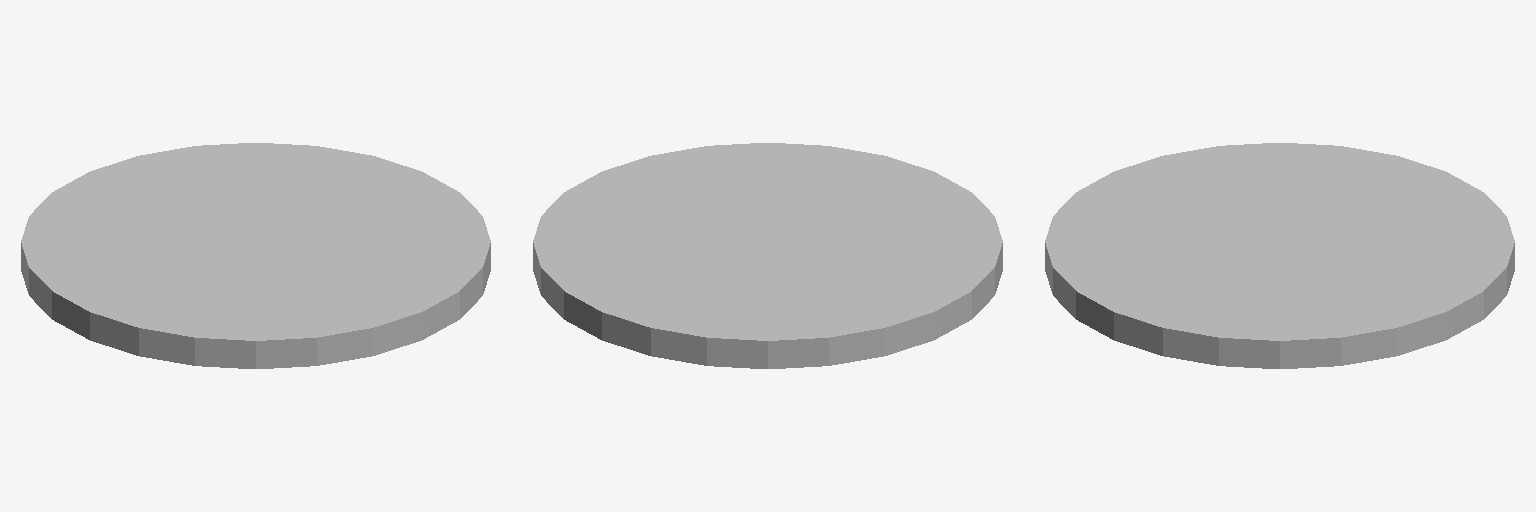
The model's file is Joystick-Right-Cover.obj.
3 renders of one model, left to right at view 1: azimuth 30°, elevation 25°; view 2: azimuth 150°, elevation 25°; view 3: azimuth 270°, elevation 25°, orthographic.
Parts seen in each view (by area): view 1: Joystick-Right-Cover; view 2: Joystick-Right-Cover; view 3: Joystick-Right-Cover.
Boxes of the visible parts, <box> form: Joystick-Right-Cover: <box>21,143,490,368</box>; Joystick-Right-Cover: <box>533,143,1002,368</box>; Joystick-Right-Cover: <box>1045,143,1514,368</box>.
Size of the model in its own units: 15 by 1 by 15.